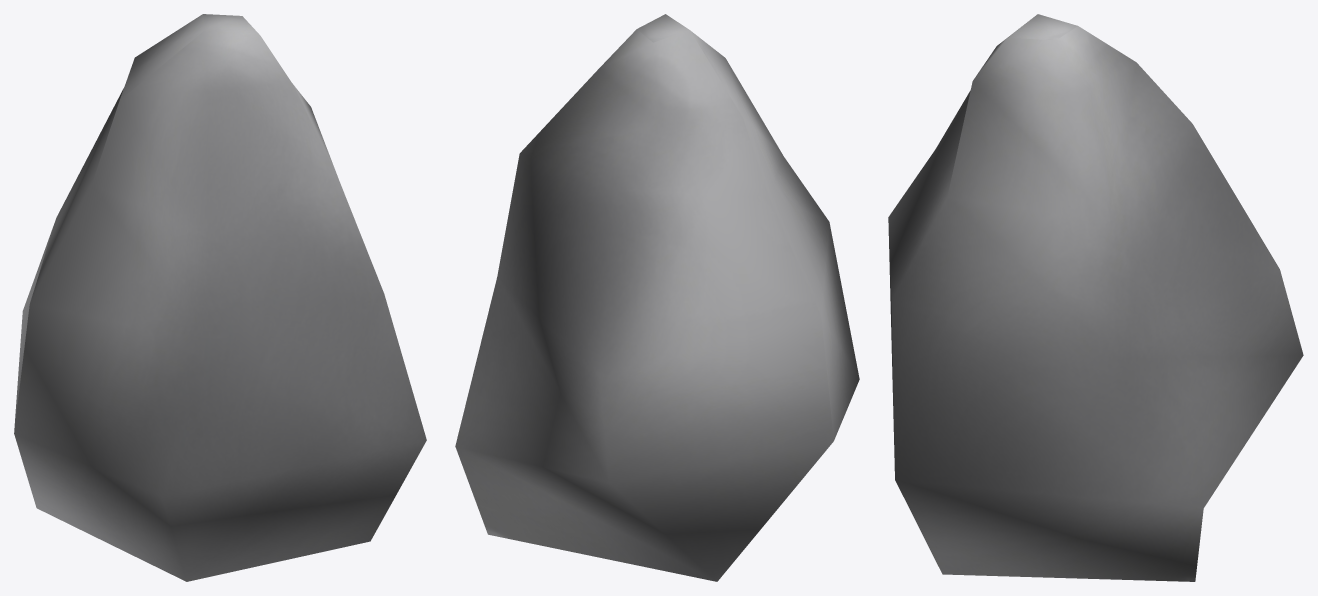
Rendered from iwa.FBX.
3 views of the same model, side by side, from view 1: azimuth 30°, elevation 25°; view 2: azimuth 150°, elevation 25°; view 3: azimuth 270°, elevation 25° (orthographic). The views are drawn at different scales.
Visible parts, largest first — view 1: OilTank001; view 2: OilTank001; view 3: OilTank001.
Boxes of the visible parts, bbox=[...] form: OilTank001: bbox=[14, 14, 426, 581]; OilTank001: bbox=[455, 14, 859, 581]; OilTank001: bbox=[888, 14, 1303, 581].
Size of the model in its own units: 59.15 by 85.36 by 63.84.
